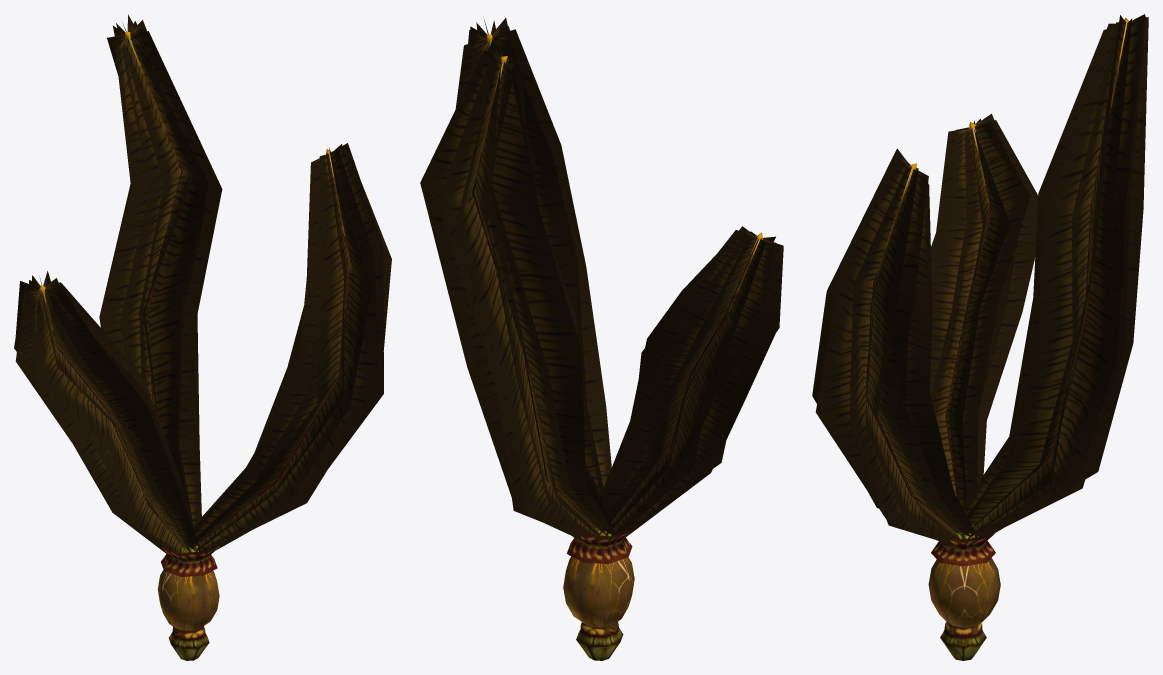
File: Bug_coms_01_b.fbx
The picture shows the model from 3 angles, left to right: view 1: azimuth 30°, elevation 25°; view 2: azimuth 150°, elevation 25°; view 3: azimuth 270°, elevation 25°; orthographic projection. The views are drawn at different scales.
Parts seen in each view (by area): view 1: Bug_comms_01_b; view 2: Bug_comms_01_b; view 3: Bug_comms_01_b.
Part boxes in pixels (box(x1,y1,x2,y2)): Bug_comms_01_b: box(14, 14, 391, 660); Bug_comms_01_b: box(420, 18, 783, 660); Bug_comms_01_b: box(812, 14, 1148, 660).
Bounding box in the file's own units: 8.22 × 14.04 × 6.54.
